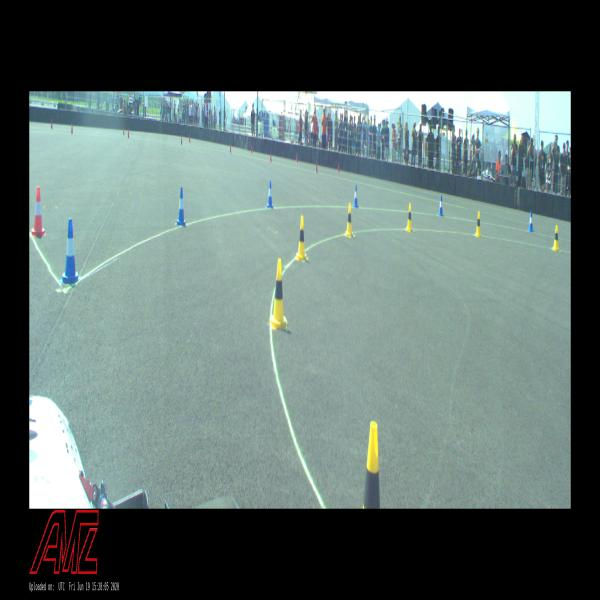blue_cone: (59, 218, 80, 282), (176, 186, 186, 226), (266, 181, 274, 208), (352, 186, 358, 208), (438, 195, 444, 216), (528, 210, 533, 232)
orange_cone: (31, 187, 46, 236)
unknown_cone: (270, 151, 272, 163), (71, 122, 73, 134), (338, 162, 340, 173), (296, 152, 298, 163), (128, 128, 130, 139), (51, 119, 53, 129), (123, 126, 125, 135), (316, 160, 317, 173), (181, 134, 182, 146), (230, 143, 231, 154), (189, 133, 190, 144), (251, 145, 252, 154)
yellow_cone: (362, 422, 380, 509), (270, 259, 288, 328), (295, 215, 308, 261), (344, 202, 354, 238), (552, 224, 559, 252), (406, 204, 412, 232), (475, 212, 481, 238)
